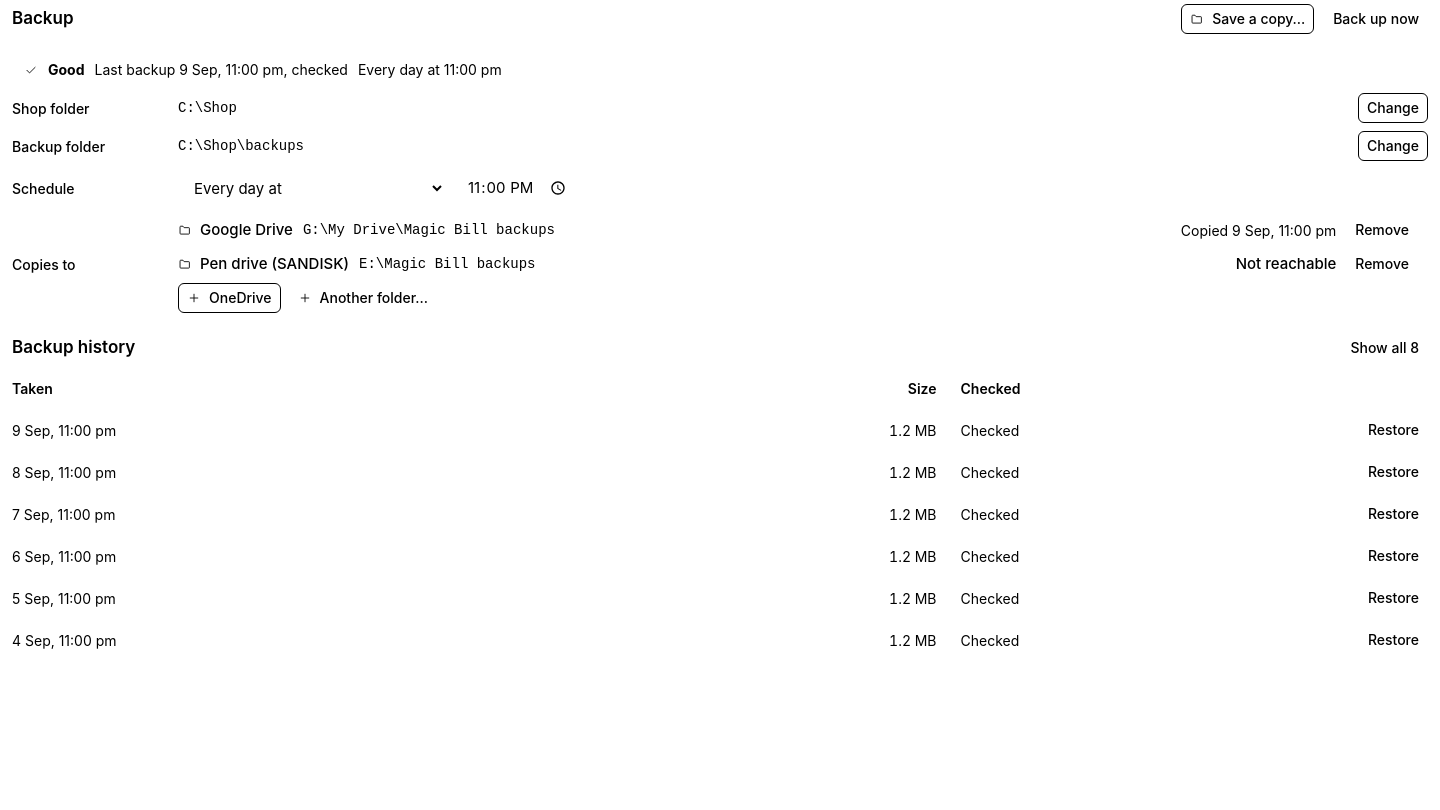
Test: shows a few backups and opens out to all of them
Expected: the text "9 Sep, 11:00 pm" is shown, [0, 409, 610, 451]
Expected: the text "2 Sep, 11:00 pm" is not shown
Click the button "Show all 8": coordinates (1385, 348) [1341, 333, 1428, 363]
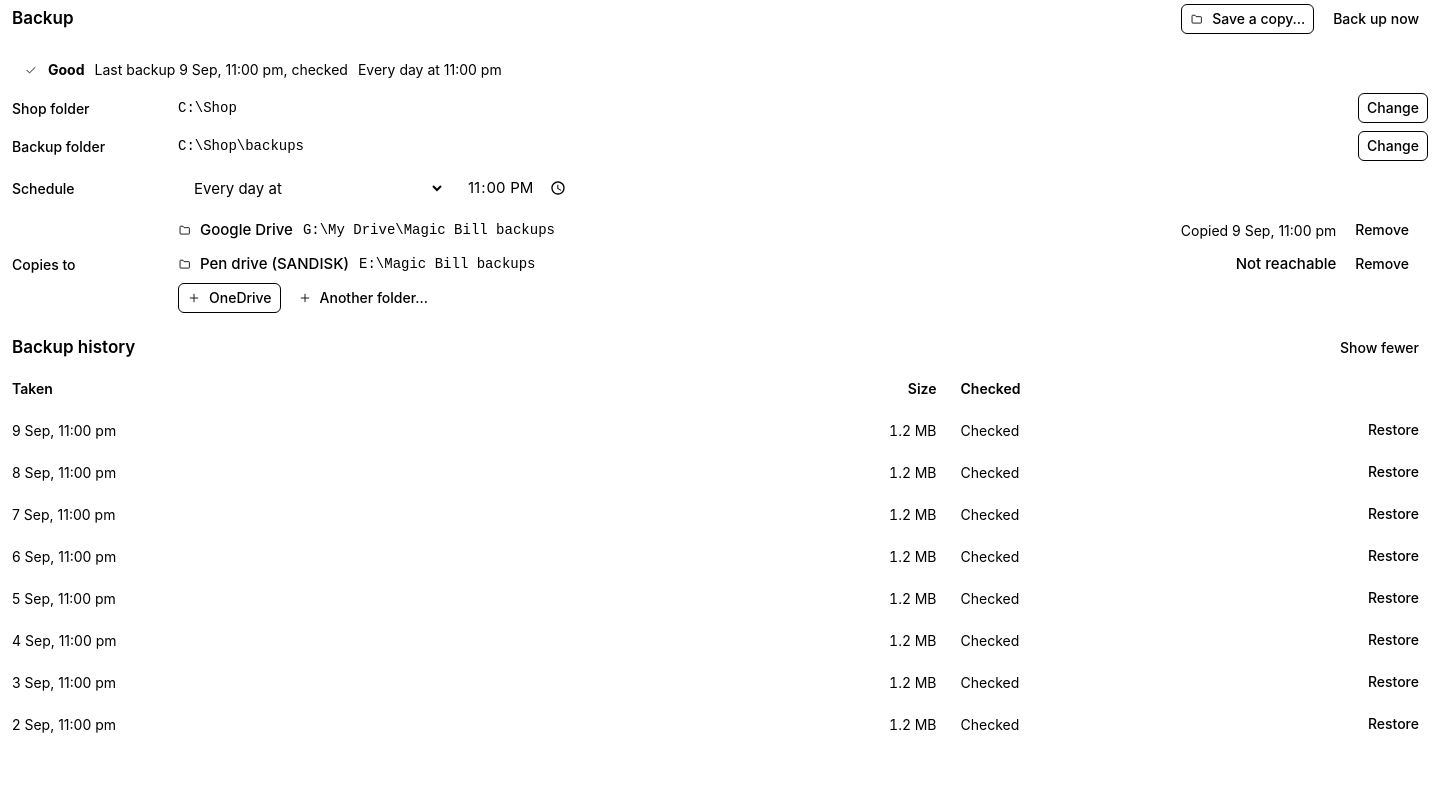
Expected: the text "2 Sep, 11:00 pm" is shown, [0, 703, 610, 745]
Expected: the button "Show fewer" is shown, [1331, 333, 1428, 363]
